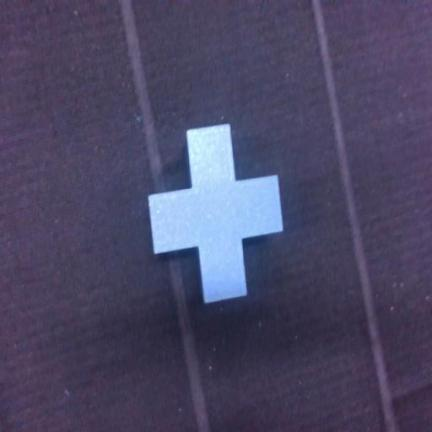cross: (149, 125, 282, 302)
